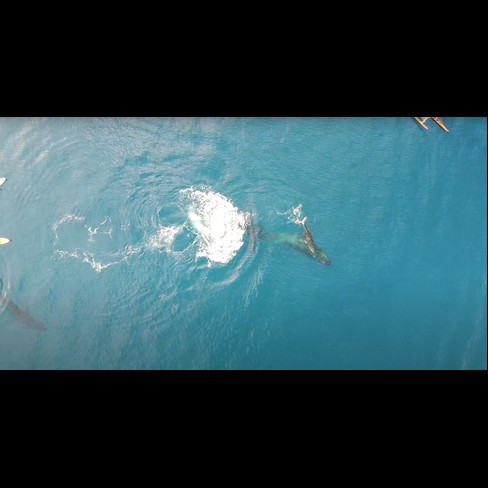hump: (254, 223, 336, 271)
